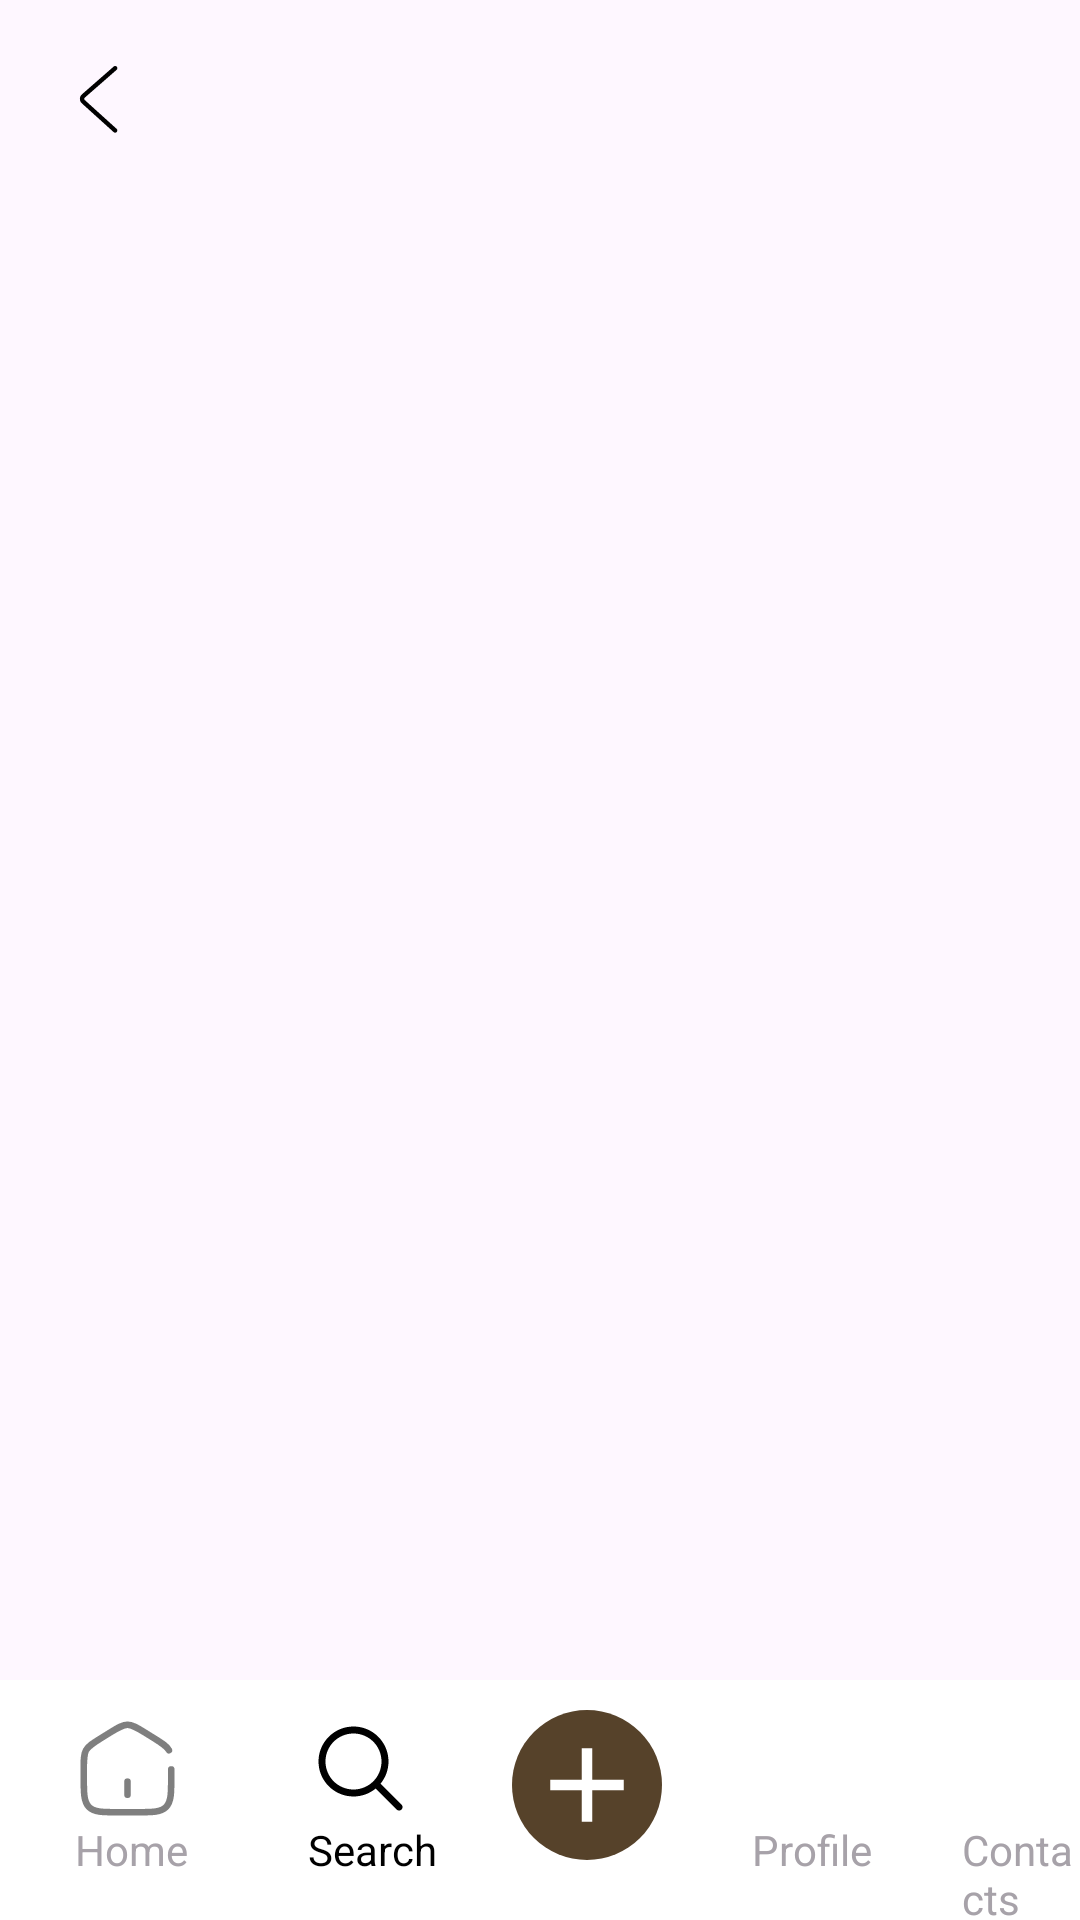

Named icons in this screenshot (1080w x 1920h) and their centers, (x=x, y=y):
add symbol: (x=587, y=1785)
back: (x=99, y=99)
